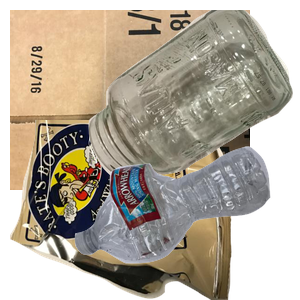cardboard: (10, 10, 250, 190)
glass: (86, 10, 300, 184)
plastic: (72, 144, 300, 300)
trash: (10, 120, 235, 300)
